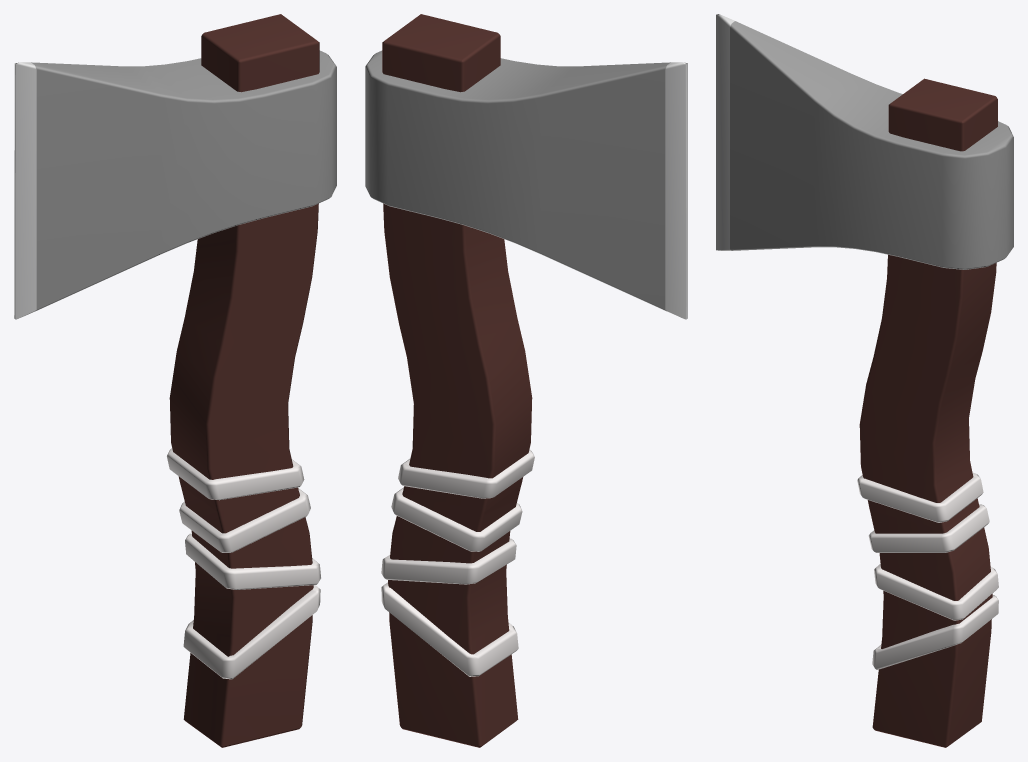
The model's file is Farm_7_Axe_1.glb.
3 renders of one model, left to right at view 1: azimuth 30°, elevation 25°; view 2: azimuth 150°, elevation 25°; view 3: azimuth 330°, elevation 25°, orthographic. The views are drawn at different scales.
Visible parts, largest first — view 1: Farm_7_Axe_1; view 2: Farm_7_Axe_1; view 3: Farm_7_Axe_1.
Boxes of the visible parts, x1=… form: Farm_7_Axe_1: x1=14, y1=14, x2=336, y2=747; Farm_7_Axe_1: x1=365, y1=14, x2=687, y2=747; Farm_7_Axe_1: x1=716, y1=14, x2=1013, y2=747.
Size of the model in its own units: 0.2696 by 0.5891 by 0.0815.
1 material, 1 textured.
